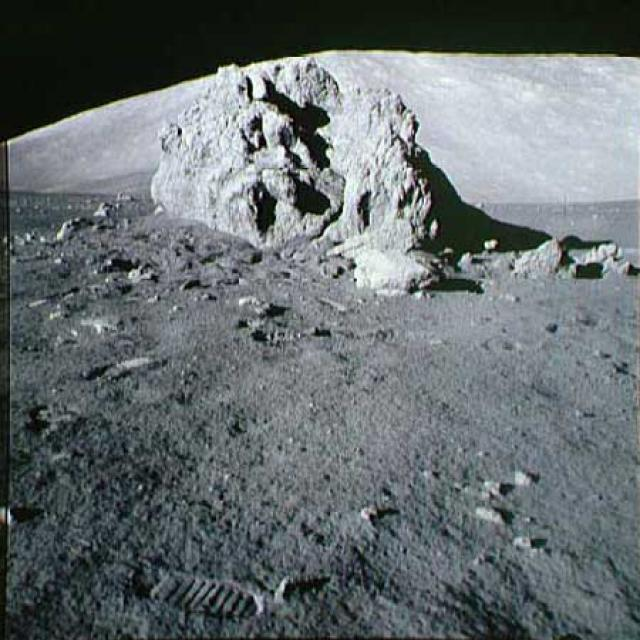rock: (145, 52, 476, 290), (458, 236, 633, 286), (49, 210, 94, 242), (96, 198, 121, 220), (113, 186, 134, 204)
